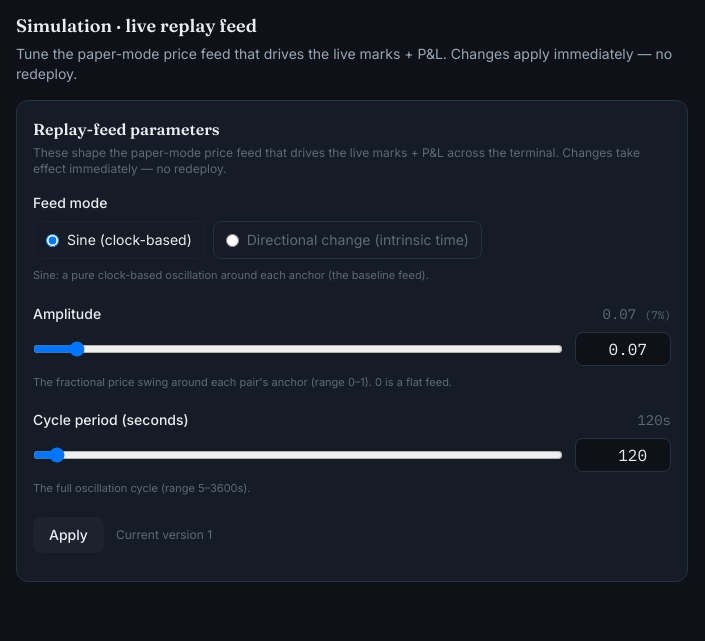
Test: SimulationSurface — read + tune the paper replay-feed parameters › shows the DIVERGENT hint when amplitude × 3 ≥ 1 (not blocked)
Expected: the text "DIVERGENT mark" is not shown
Replace the text in the number field named "Amplitude value" with "0.34" at [623, 348], box [575, 332, 671, 366]
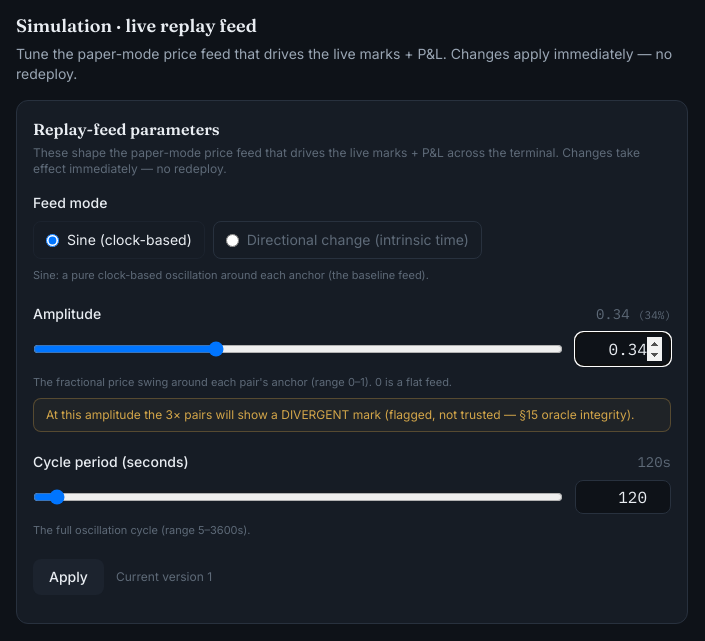
Expected: the button "Apply" is enabled, [33, 558, 104, 594]
Expected: the text "DIVERGENT mark" is shown, [46, 407, 634, 422]
